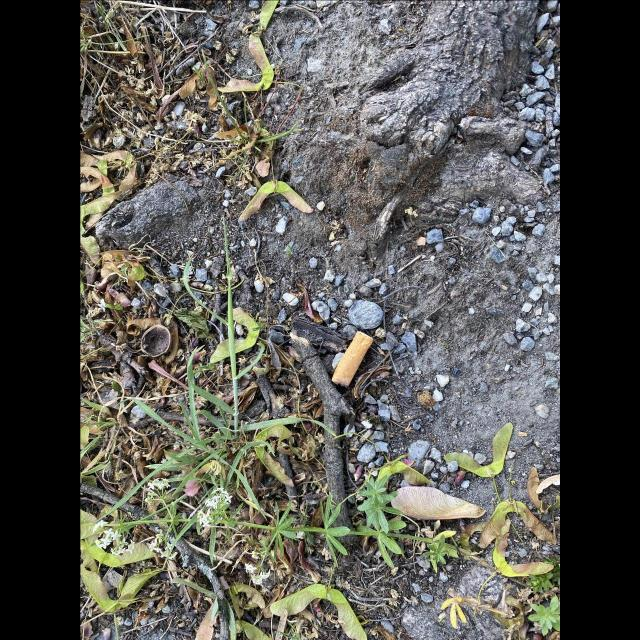cigarette: (331, 329, 374, 386)
